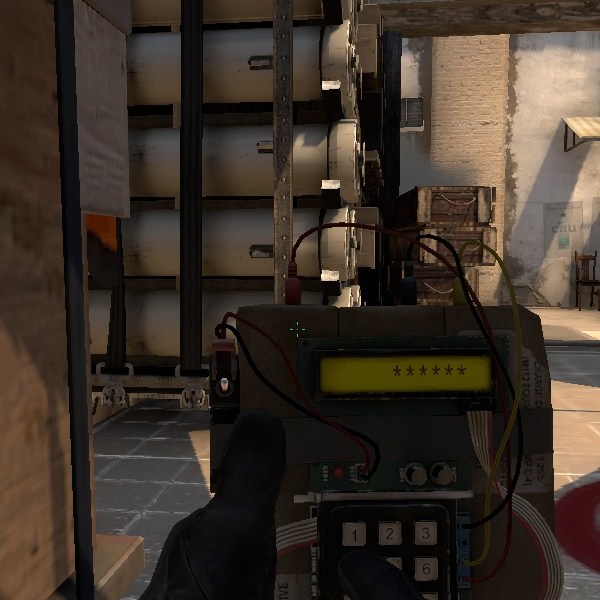t_head: (210, 313, 242, 351)
